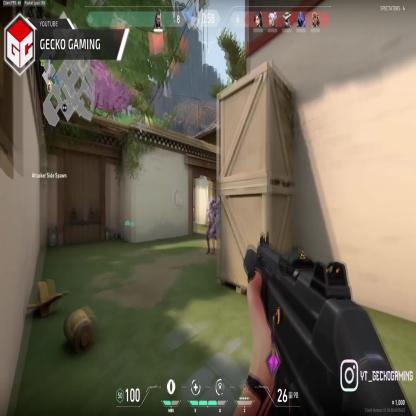enemy: (206, 198, 218, 257)
enemy_head: (210, 198, 214, 207)
